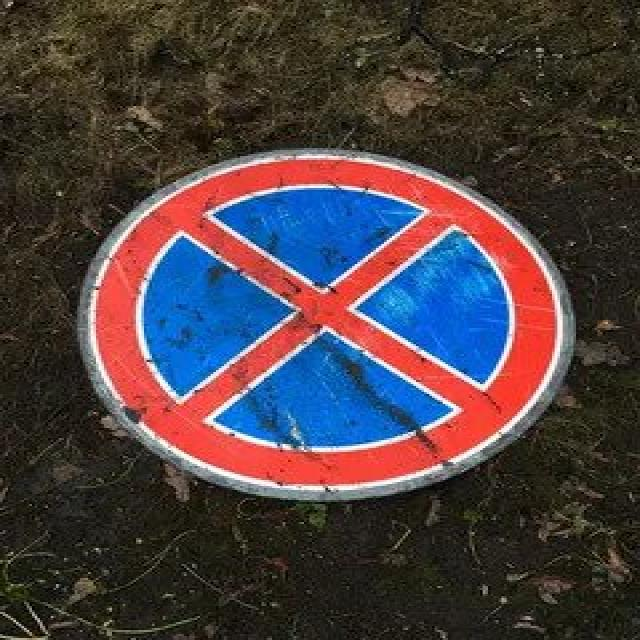no stopping: (63, 143, 588, 509)
